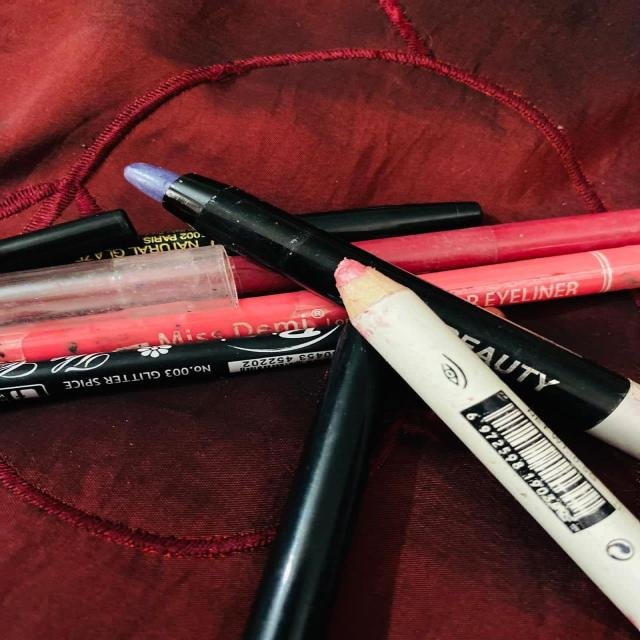eye liner: (105, 136, 316, 272), (309, 240, 472, 394)
